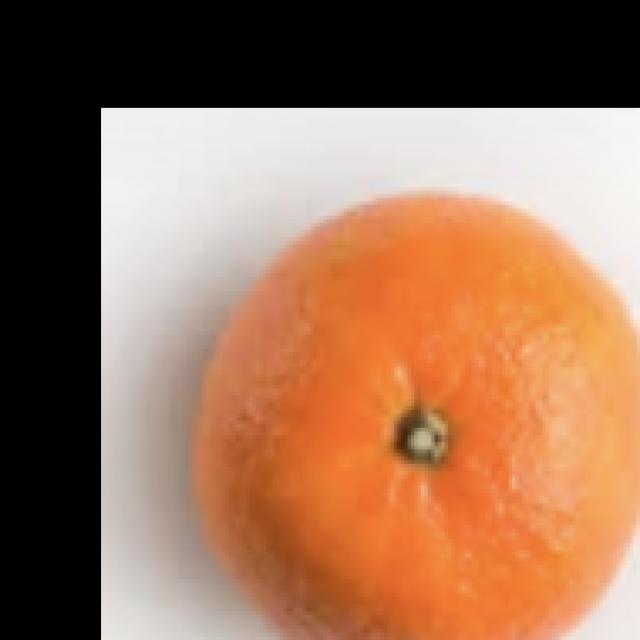orange: (185, 181, 640, 640)
